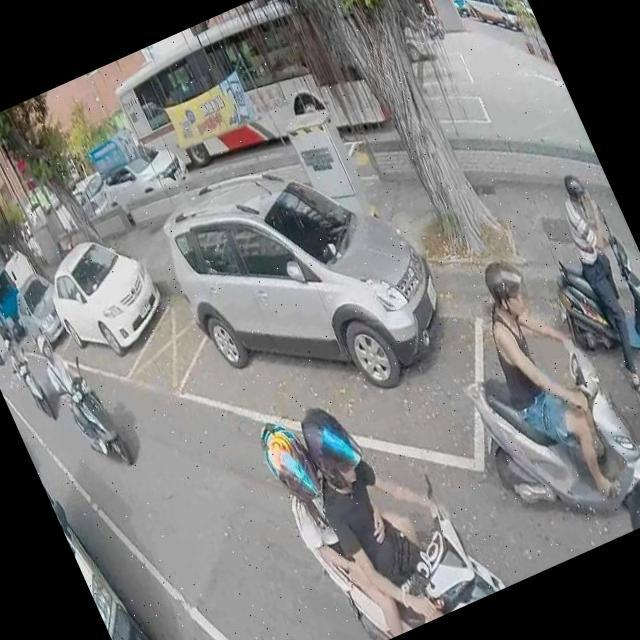person: (286, 372, 493, 640), (452, 239, 640, 526), (248, 381, 454, 640), (542, 165, 640, 401), (30, 316, 126, 466), (2, 334, 50, 412), (610, 464, 640, 531), (416, 0, 437, 30)
